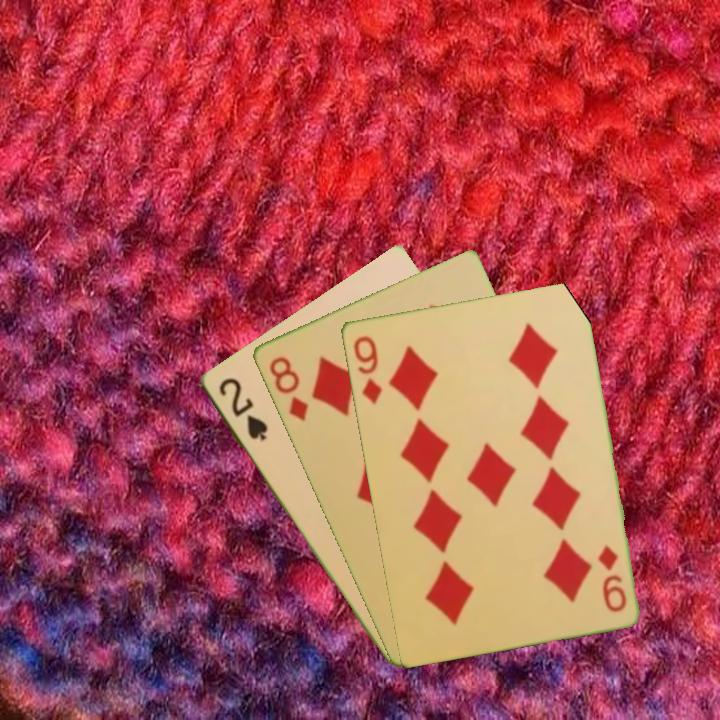2s: (214, 373, 271, 444)
8d: (265, 352, 311, 424)
9d: (349, 332, 384, 407), (594, 541, 629, 615)
